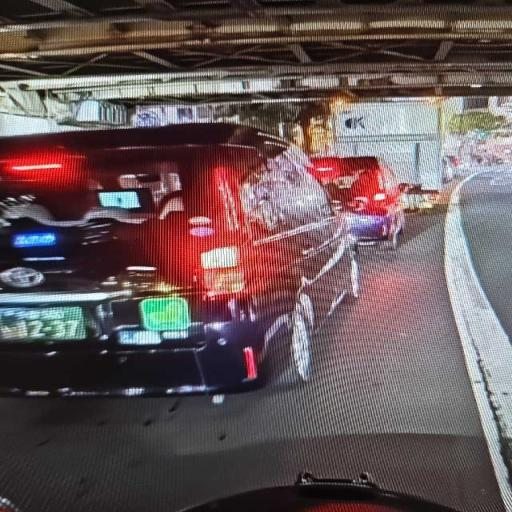car: (0, 124, 357, 396), (312, 157, 407, 248)
lane: (0, 212, 502, 511), (461, 166, 511, 334)
